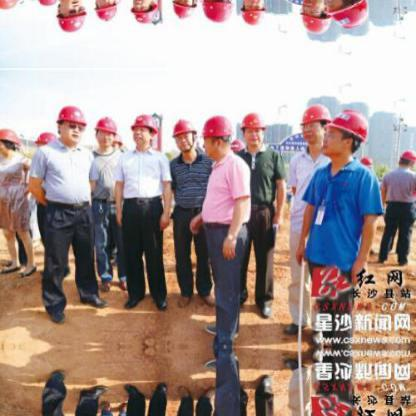helmet: (322, 107, 368, 160), (296, 102, 330, 148), (198, 112, 232, 158), (53, 102, 87, 146), (322, 0, 369, 31), (296, 0, 331, 36), (53, 0, 88, 35), (170, 116, 197, 156), (239, 110, 266, 150), (129, 110, 153, 148), (198, 0, 233, 26), (92, 114, 116, 148), (238, 0, 266, 28), (0, 124, 23, 158), (129, 0, 154, 28), (34, 128, 59, 154), (169, 0, 197, 21), (92, 0, 117, 23), (395, 148, 414, 172), (0, 0, 23, 14), (33, 0, 59, 9)
